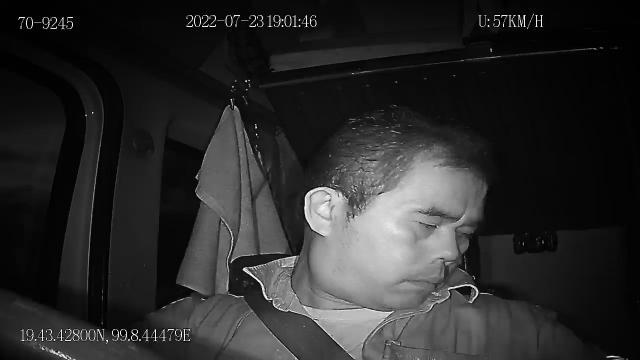Seatbelt: (243, 288, 357, 360)
